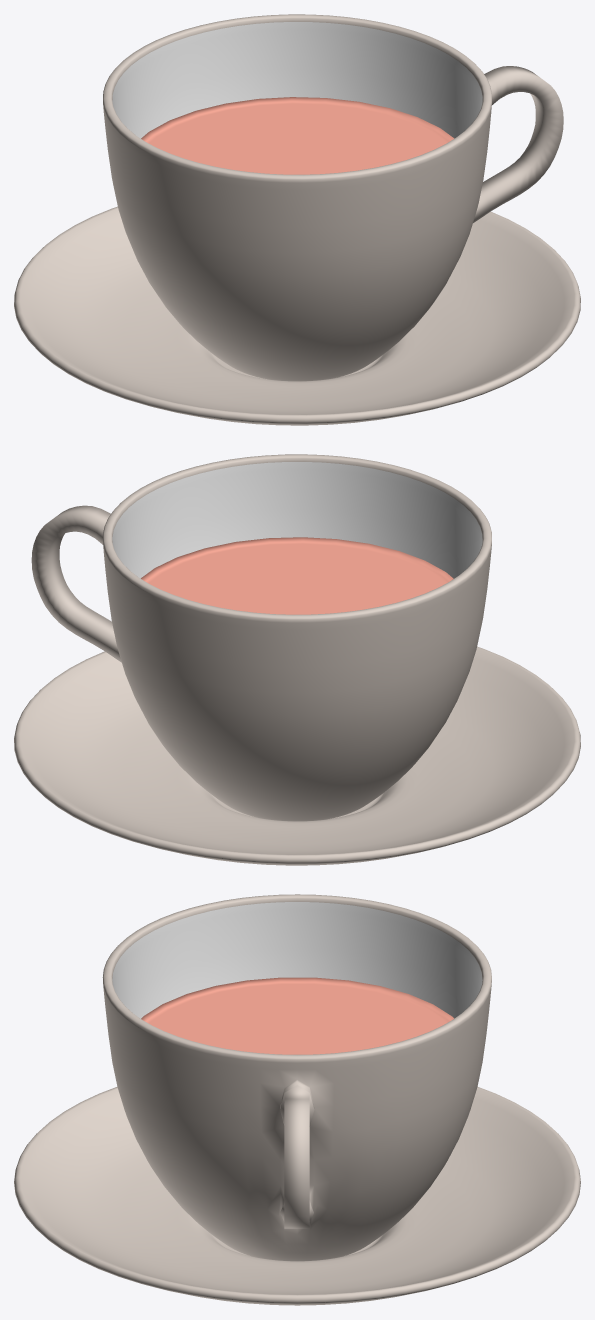
File: cup.glb
The picture shows the model from 3 angles, top to bottom: view 1: azimuth 30°, elevation 25°; view 2: azimuth 150°, elevation 25°; view 3: azimuth 270°, elevation 25°; orthographic projection.
Visible parts, largest first — view 1: cup, plate, liquid; view 2: cup, plate, liquid; view 3: cup, plate, liquid.
Boxes of the visible parts, x1=… form: cup: x1=103, y1=14, x2=563, y2=381; plate: x1=14, y1=206, x2=580, y2=425; liquid: x1=141, y1=97, x2=454, y2=174; cup: x1=31, y1=454, x2=491, y2=821; plate: x1=14, y1=646, x2=580, y2=865; liquid: x1=141, y1=537, x2=453, y2=614; cup: x1=102, y1=894, x2=491, y2=1261; plate: x1=14, y1=1087, x2=580, y2=1305; liquid: x1=141, y1=977, x2=453, y2=1054.
Size of the model in its own units: 0.1227 by 0.0607 by 0.1193.
